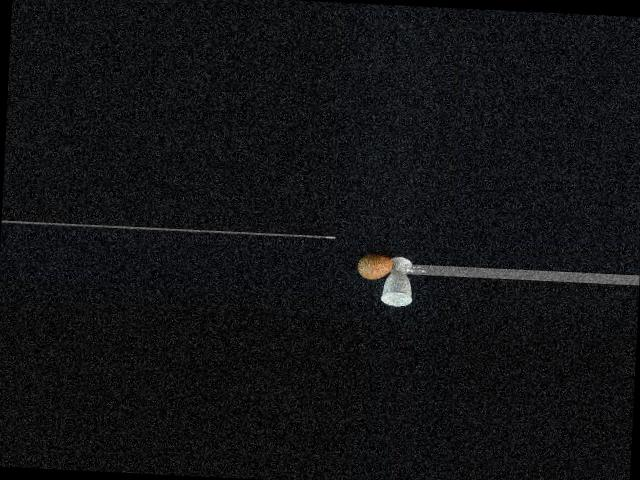egg: (357, 253, 393, 280)
